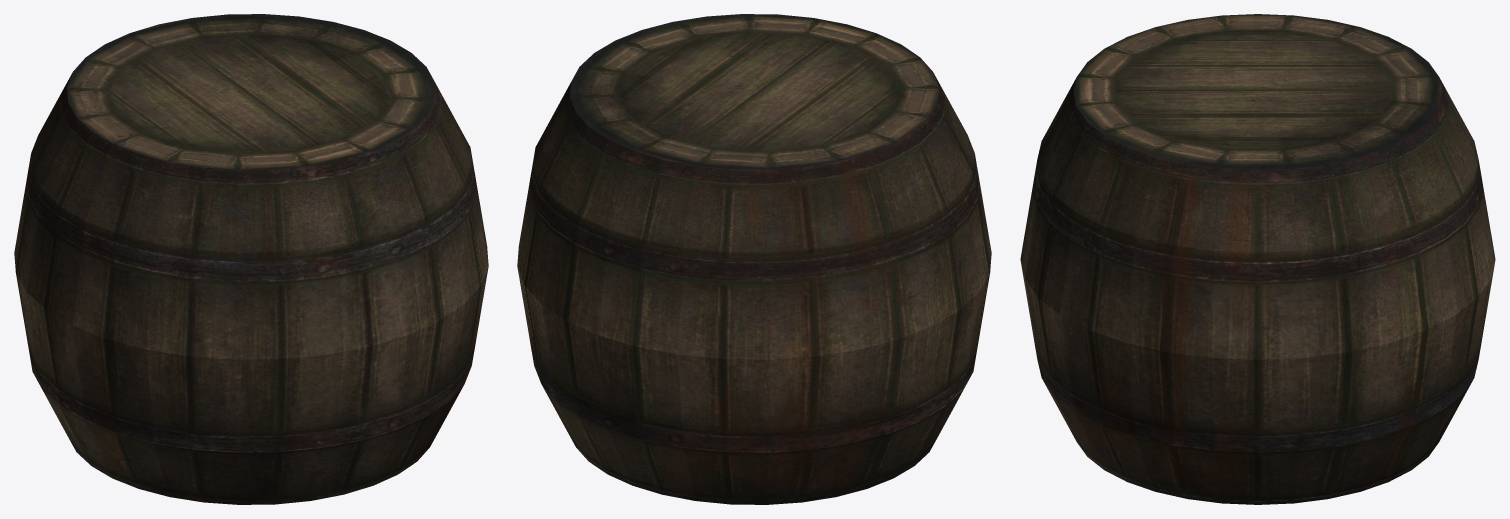
Rendered from Barrilv2.fbx.
3 views of the same model, side by side, from view 1: azimuth 30°, elevation 25°; view 2: azimuth 150°, elevation 25°; view 3: azimuth 270°, elevation 25° (orthographic).
Parts seen in each view (by area): view 1: Barrilito; view 2: Barrilito; view 3: Barrilito.
Part boxes in pixels (x1=…): Barrilito: x1=14, y1=14, x2=488, y2=504; Barrilito: x1=517, y1=14, x2=991, y2=504; Barrilito: x1=1020, y1=14, x2=1495, y2=504.
Size of the model in its own units: 245 by 190 by 245.
1 material, 1 textured.
